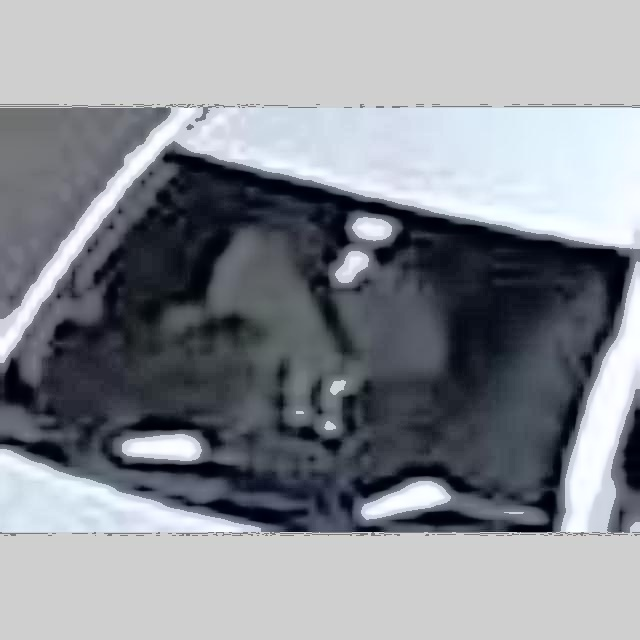pakai: (177, 216, 432, 432)
